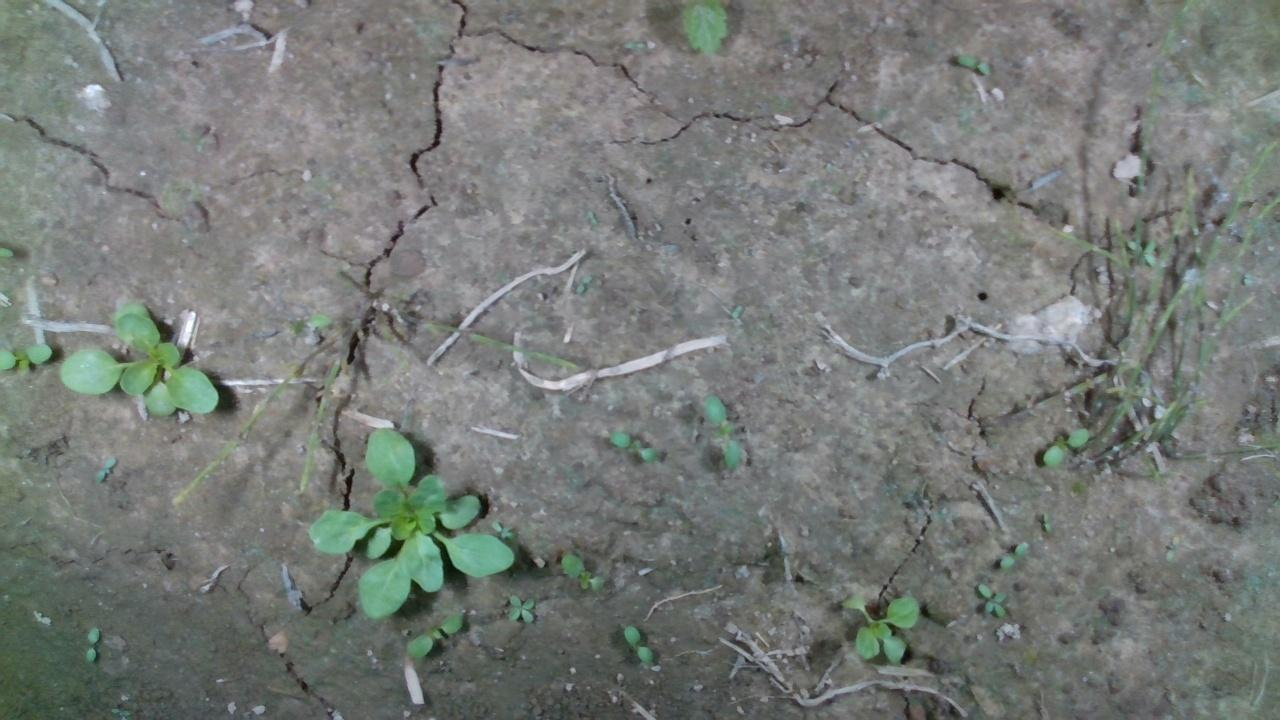weed: (402, 611, 465, 659), (558, 552, 607, 591), (623, 623, 654, 663), (975, 582, 1006, 617), (998, 538, 1028, 570), (506, 593, 535, 624), (83, 624, 99, 663)
